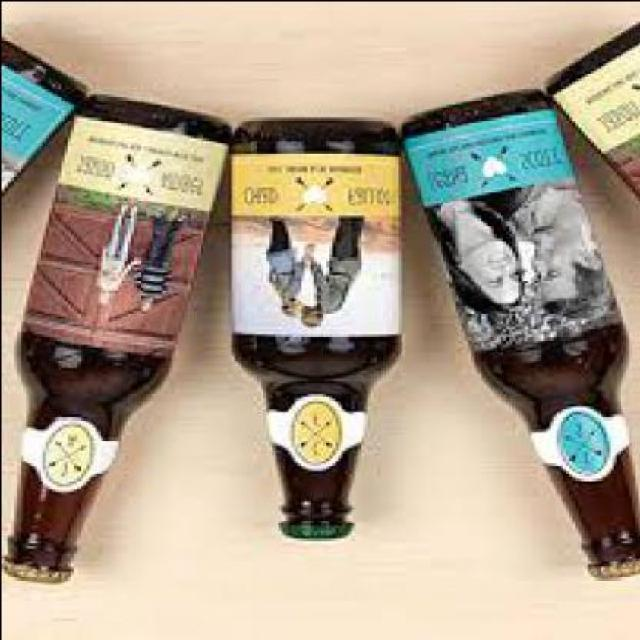GLASS: (397, 90, 637, 568), (3, 98, 228, 572), (224, 119, 398, 526), (538, 21, 637, 214), (2, 29, 89, 197)
METAL: (2, 562, 69, 586), (580, 562, 637, 581), (274, 530, 344, 538)
